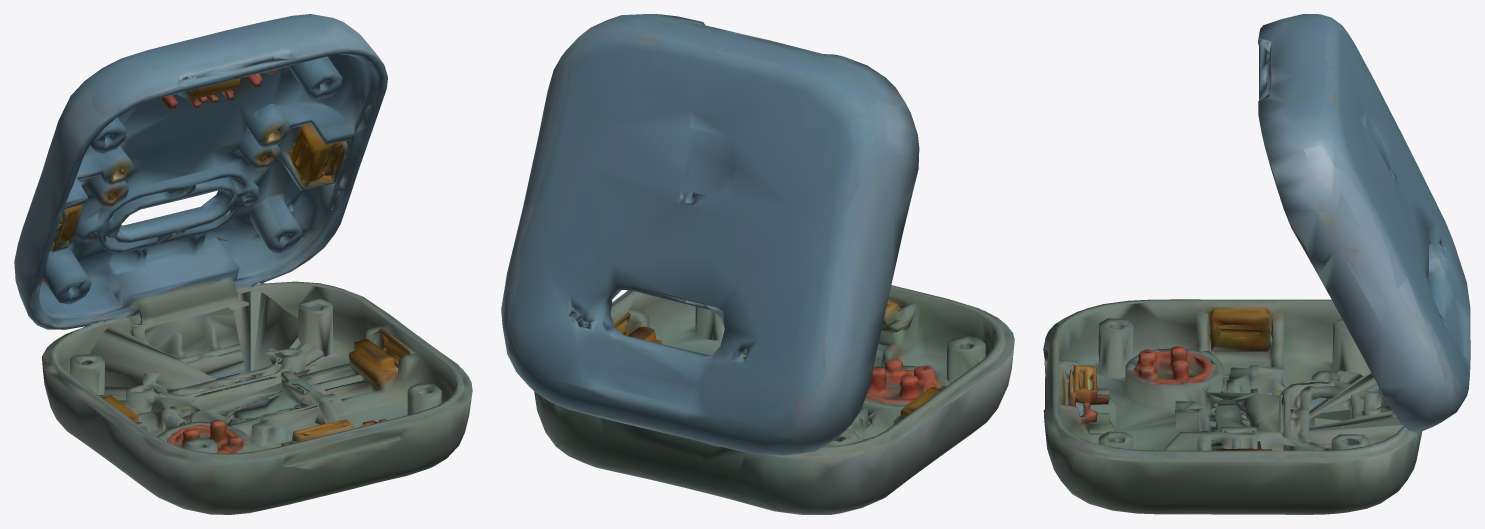
Rendered from sc-shell-halves.glb.
The picture shows the model from 3 angles, left to right: view 1: azimuth 30°, elevation 25°; view 2: azimuth 150°, elevation 25°; view 3: azimuth 270°, elevation 25°; orthographic projection. The views are drawn at different scales.
Parts seen in each view (by area): view 1: geometry_0; view 2: geometry_0; view 3: geometry_0.
Part boxes in pixels (x1,y1,x2,y2): geometry_0: (14,14,472,514); geometry_0: (501,14,1014,514); geometry_0: (1043,14,1470,514).
Size of the model in its own units: 0.8975 by 1 by 1.
Materials: 1 (1 with a texture image).
